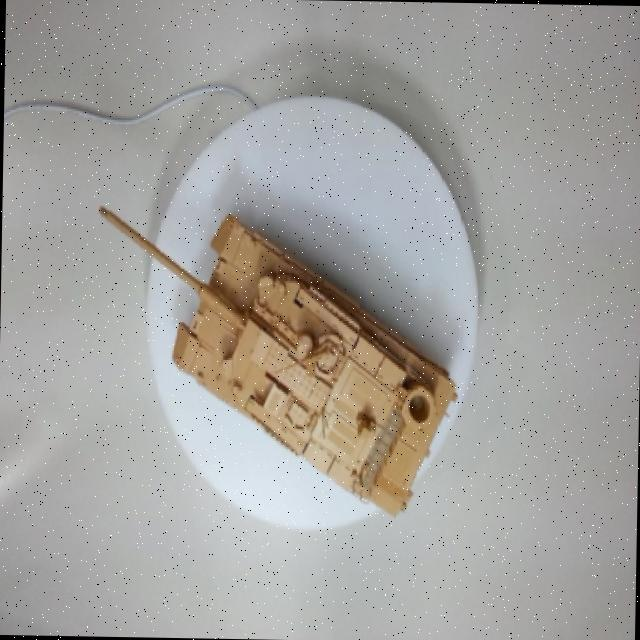korea tank: (80, 197, 508, 520)
